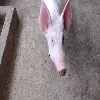heo: (38, 1, 73, 78)
